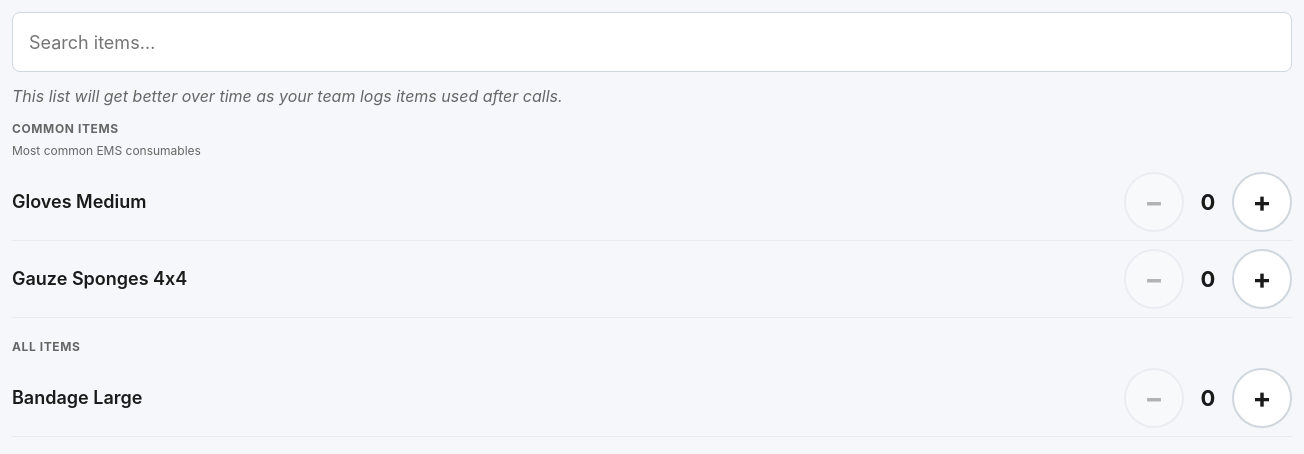
Test case: UsageItemPicker — search › shows empty state when search has no matches
In the search field: (652,42) left=12, top=12, right=1292, bottom=72, type "zzznomatch"
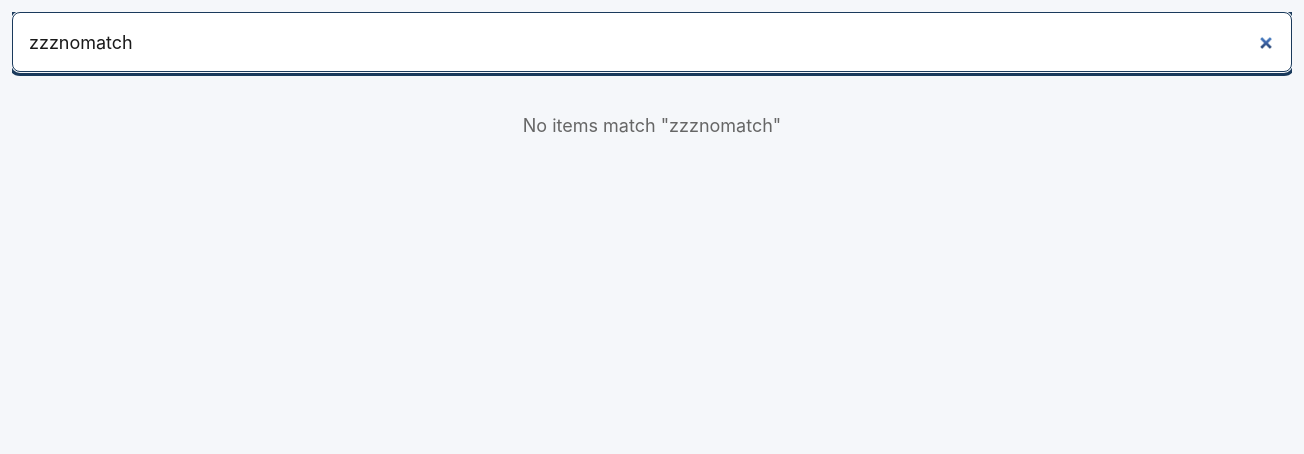
Check: the text "No items match \"zzznomatch\"" is shown, box left=523, top=115, right=781, bottom=136
